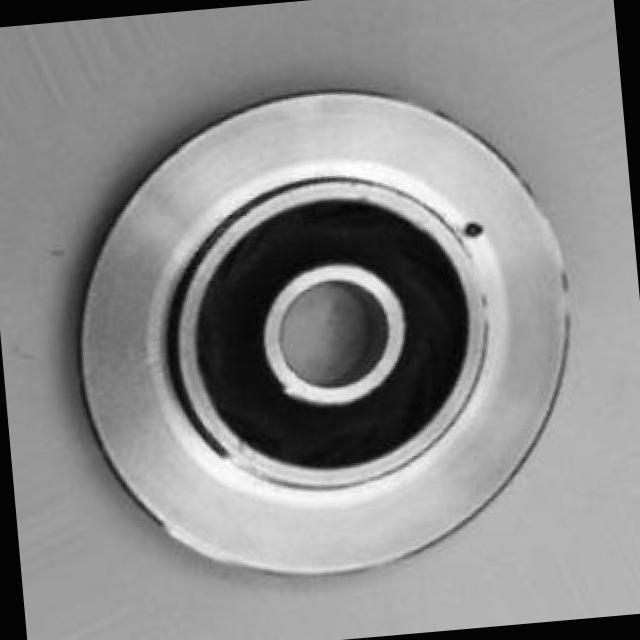Defect: (453, 210, 488, 248)
